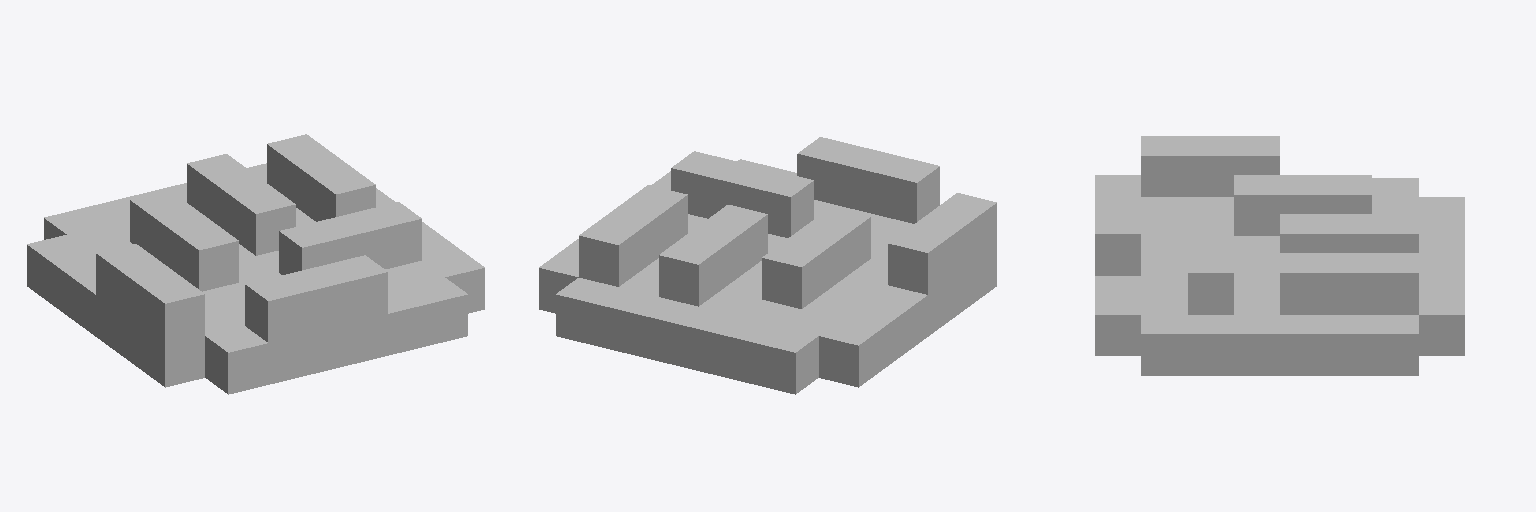
File: BasiliskFang.obj
3 views of the same model, side by side, from view 1: azimuth 30°, elevation 25°; view 2: azimuth 150°, elevation 25°; view 3: azimuth 270°, elevation 25° (orthographic).
Visible parts, largest first — view 1: object 1; view 2: object 1; view 3: object 1.
Boxes of the visible parts, box(x1,y1,x2,y2) form: object 1: box(27, 134, 484, 394); object 1: box(539, 137, 996, 394); object 1: box(1095, 136, 1464, 375).
Bounding box in the file's own units: 0.8 × 0.2 × 0.8.